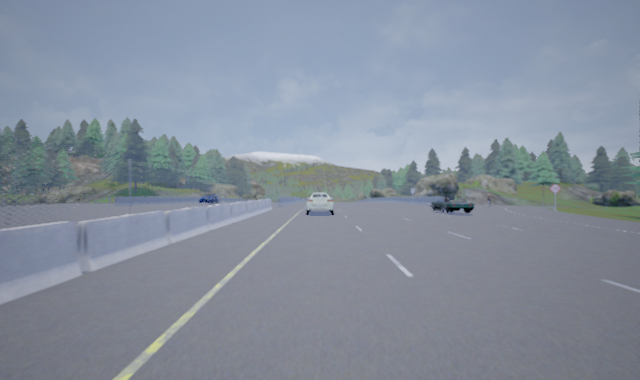traffic_sign: (549, 183, 561, 195)
vehicle: (430, 191, 475, 214), (305, 192, 334, 215), (198, 193, 217, 204)
